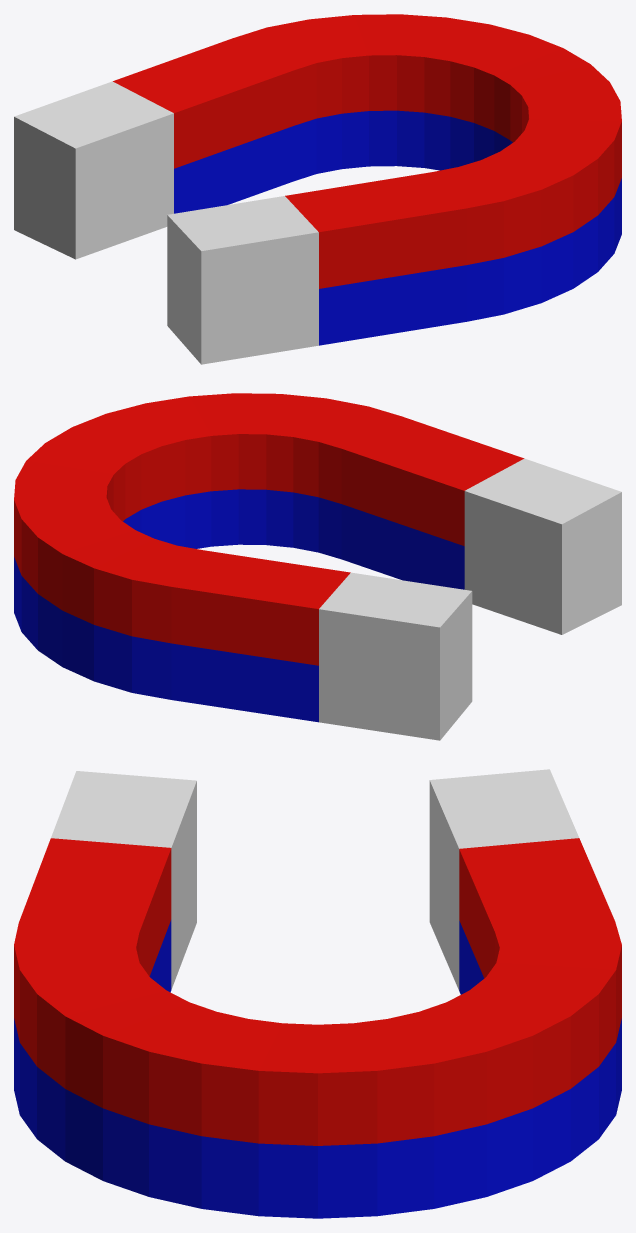
The model's file is Magnet.fbx.
The picture shows the model from 3 angles, top to bottom: view 1: azimuth 30°, elevation 25°; view 2: azimuth 150°, elevation 25°; view 3: azimuth 270°, elevation 25°; orthographic projection. The views are drawn at different scales.
Visible parts, largest first — view 1: Cylinder; view 2: Cylinder; view 3: Cylinder.
Part boxes in pixels (x1,y1,x2,y2): Cylinder: [14, 14, 621, 364]; Cylinder: [14, 393, 621, 740]; Cylinder: [14, 769, 621, 1218].
Bounding box in the file's own units: 237 × 52.76 × 200.
